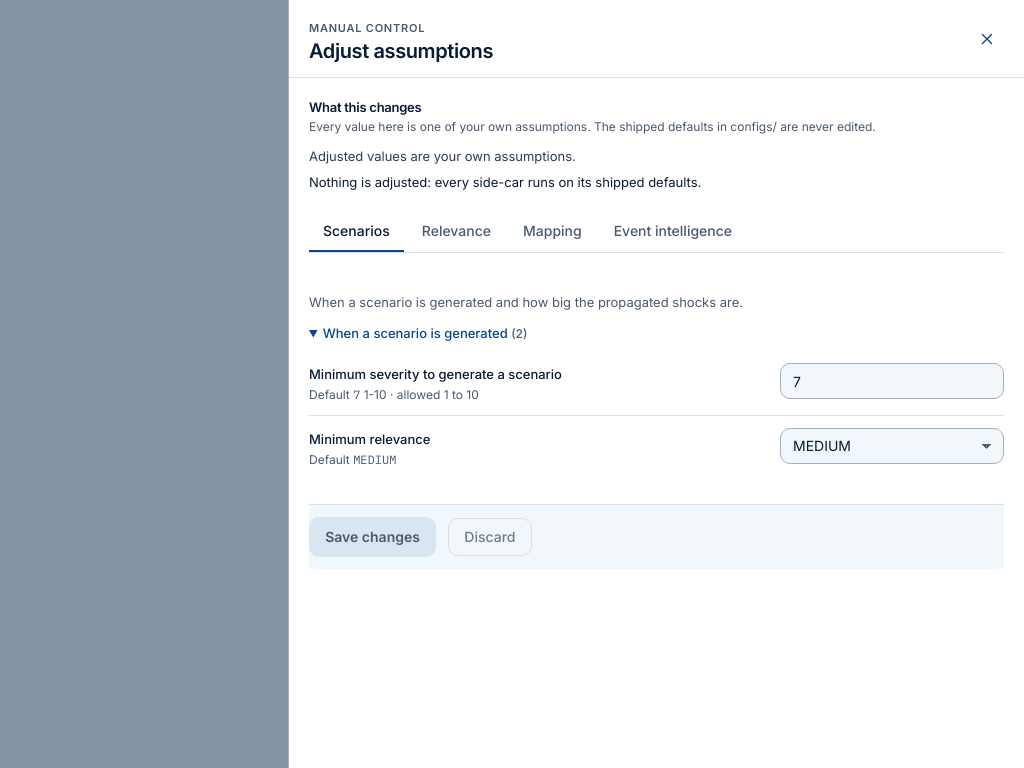
Test case: Adjust drawer › validates then saves a change, then shows it as adjusted with a way back
Clear the number field labelled "Minimum severity to generate a scenario" at [892, 381], box left=780, top=363, right=1004, bottom=399
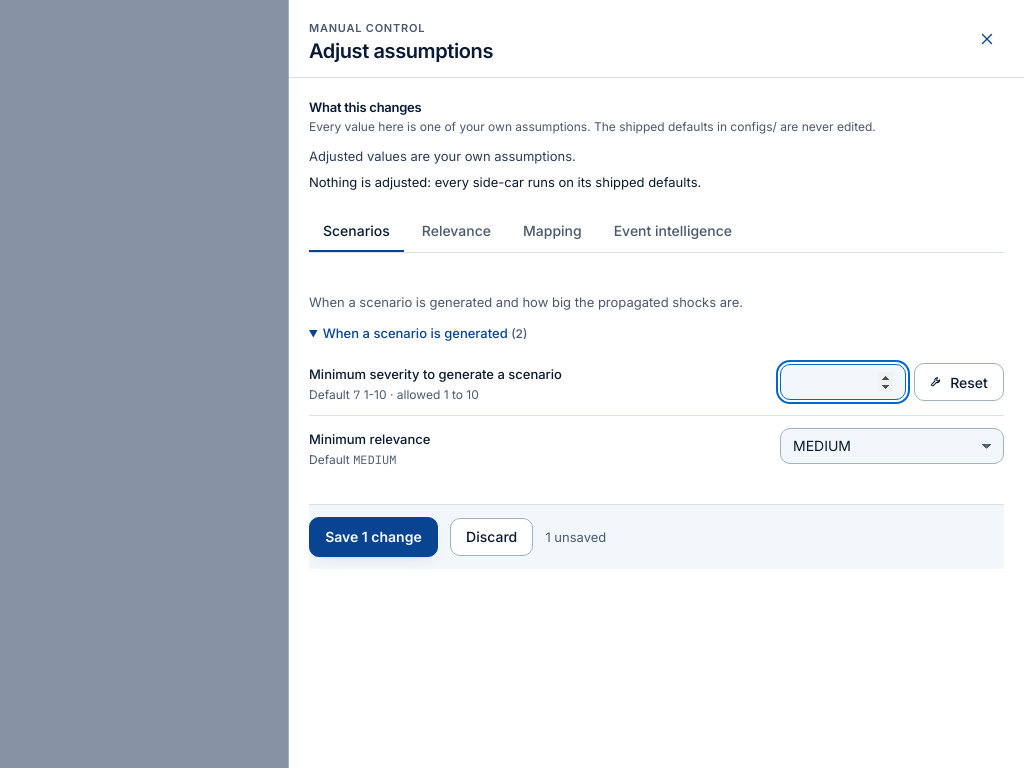
Type "8" into the number field labelled "Minimum severity to generate a scenario" at [843, 382], box left=780, top=364, right=906, bottom=400
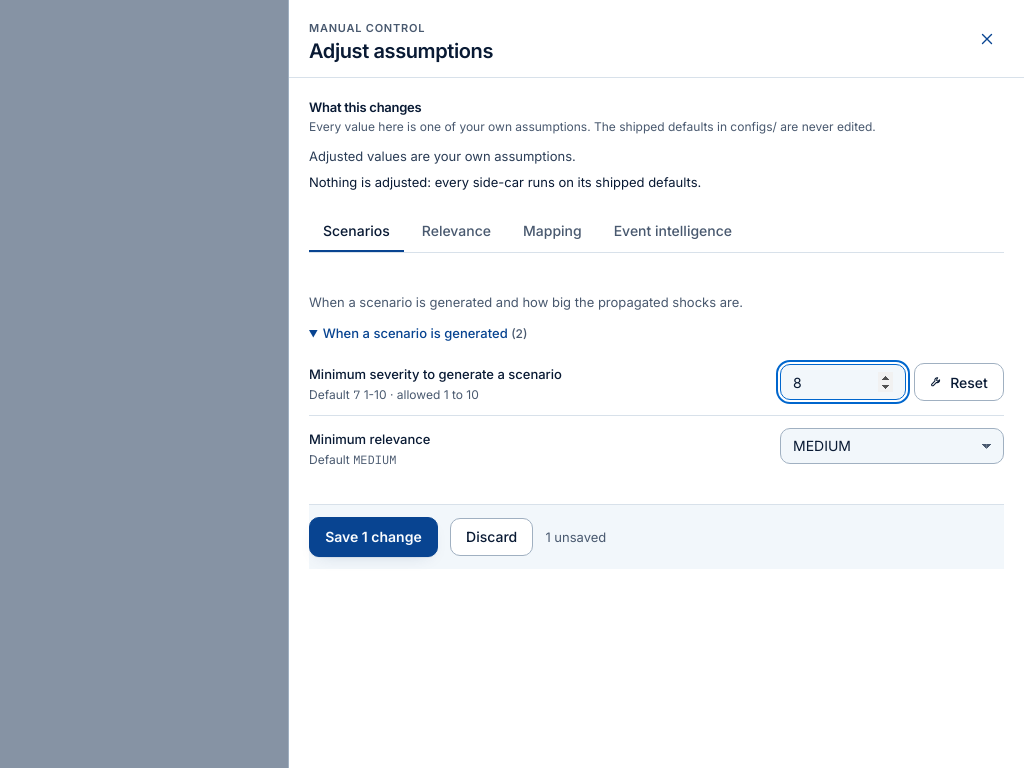
Click the button "Save 1 change" at [373, 537], box left=309, top=517, right=438, bottom=557
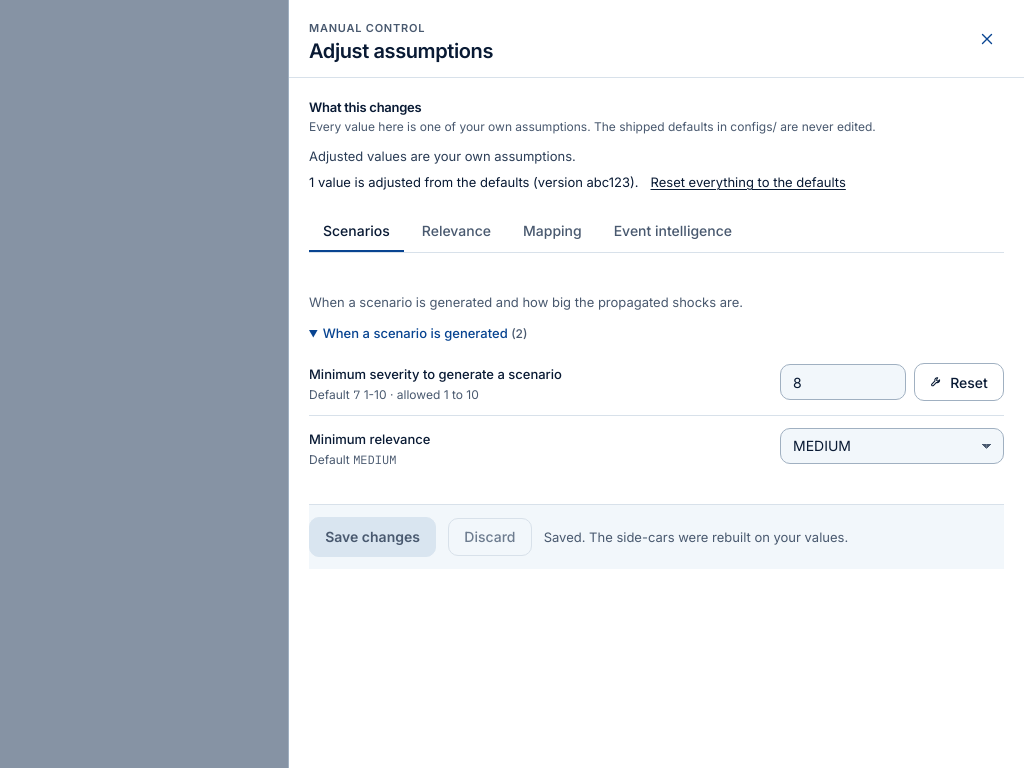
Check: the button with aria-label "reset minimum severity to generate a scenario to its default" is shown, box left=914, top=363, right=1004, bottom=401
Check: the text "Saved. The side-cars were rebuilt on your values." is shown, box left=544, top=528, right=848, bottom=546
Check: the text "1 value is adjusted from the defaults" is shown, box left=309, top=174, right=638, bottom=190
